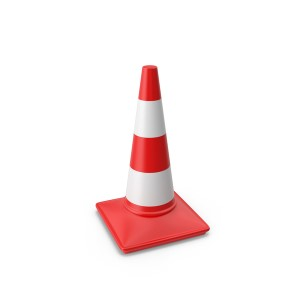traffic cone: (95, 64, 210, 253)
